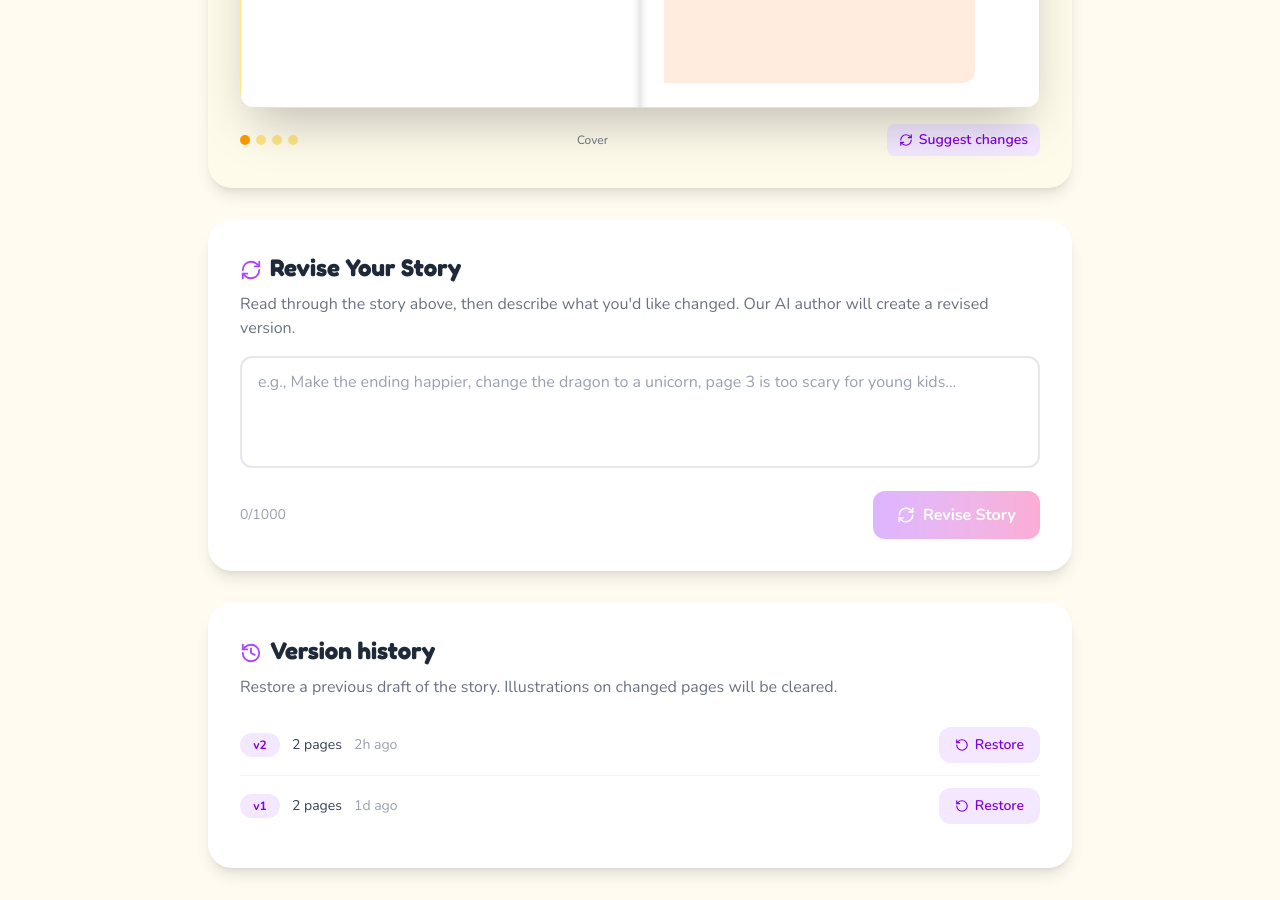
Test: BookDetail — Version History › restores a prior version after confirmation and updates book state
(page scrolled)
Expected: the text "v1" is shown, x1=240 y1=794 x2=280 y2=818
Click "Restore" on v1 (the oldest version).
What coordinates should you click on to do the following:
click the button with aria-label "restore version 1"
I would click on:
 (989, 806)
Its box is x1=939 y1=788 x2=1040 y2=824.
(page scrolled)
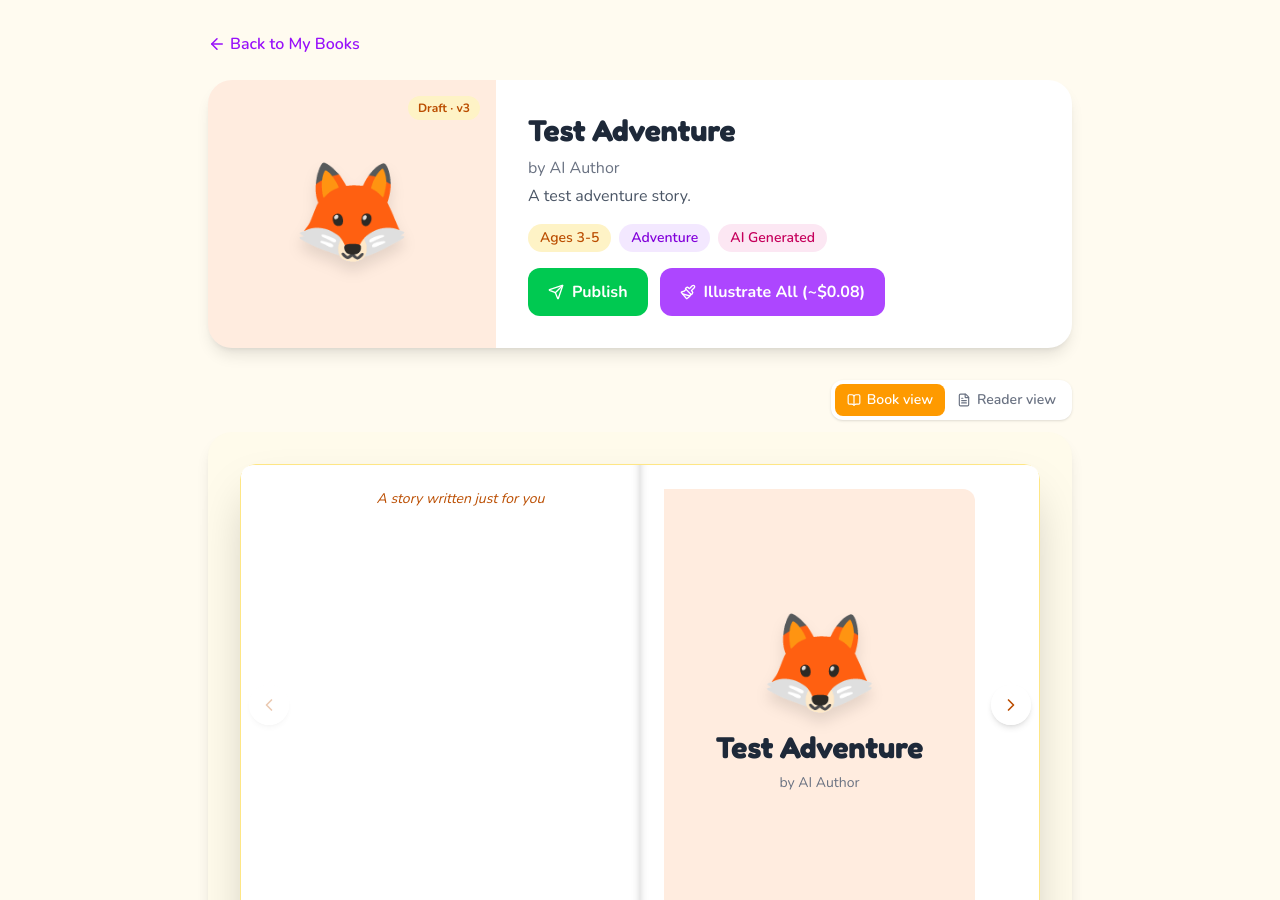
What coordinates should you click on to do the following:
click the button "Reader view"
I would click on:
 (1006, 400)
Its box is x1=945 y1=384 x2=1068 y2=416.
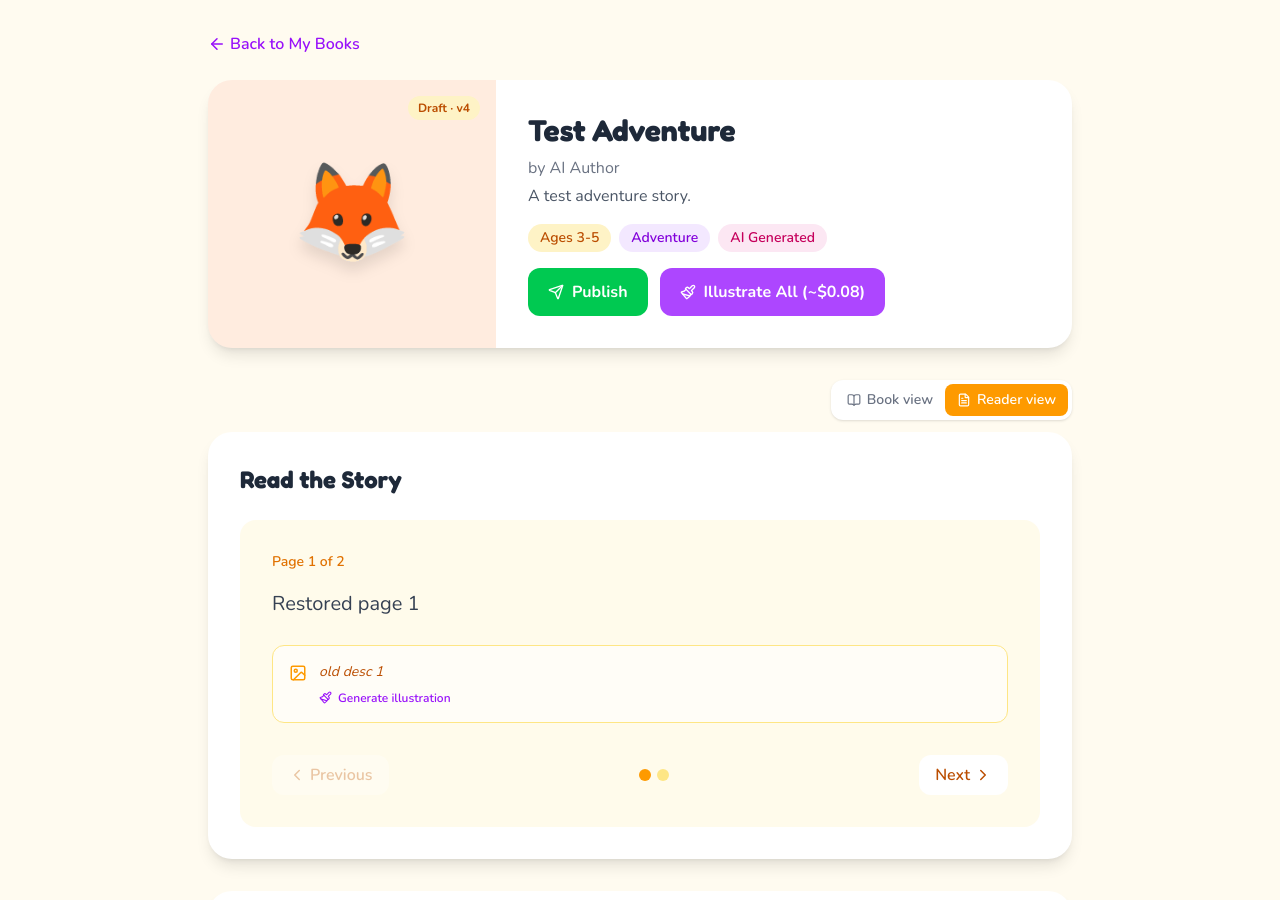
Expected: the text "Restored page 1" is shown, x1=272 y1=590 x2=420 y2=617
